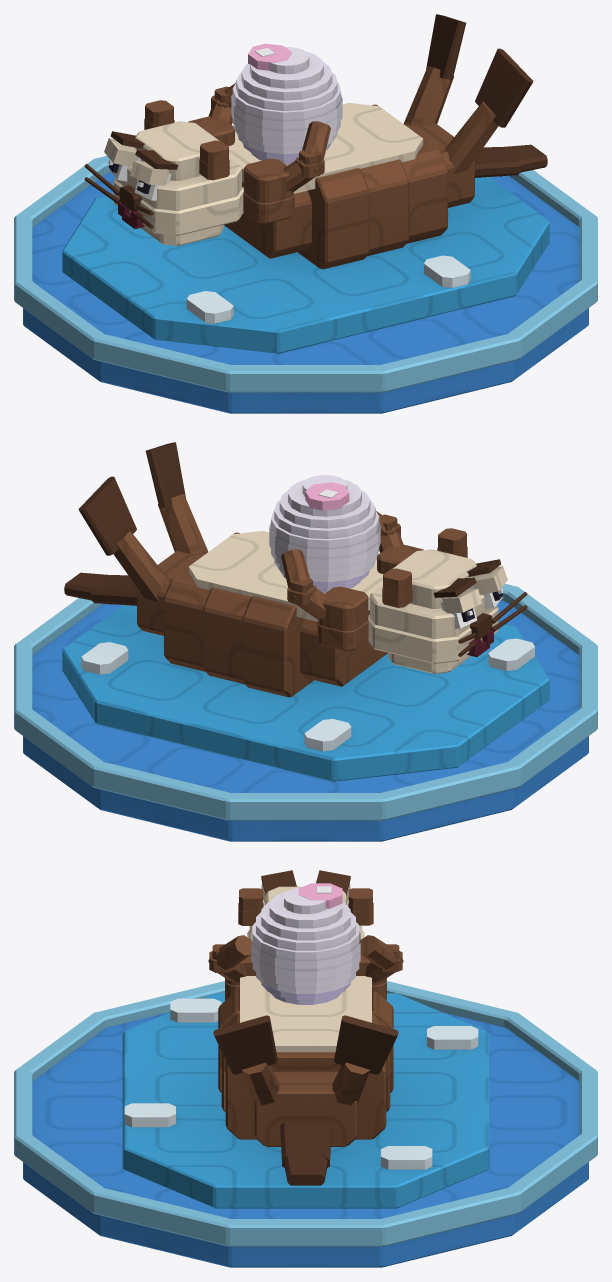
File: PearlOtter.fbx
3 renders of one model, top to bottom at view 1: azimuth 30°, elevation 25°; view 2: azimuth 150°, elevation 25°; view 3: azimuth 270°, elevation 25°, orthographic.
Parts seen in each view (by area): view 1: Art_PearlOtter_Body, Art_PearlOtter_Stand, Art_PearlOtter_Head, Art_PearlOtter_Pearl, Art_PearlOtter_ArmL, Art_PearlOtter_ArmR; view 2: Art_PearlOtter_Body, Art_PearlOtter_Stand, Art_PearlOtter_Head, Art_PearlOtter_Pearl, Art_PearlOtter_ArmR, Art_PearlOtter_ArmL; view 3: Art_PearlOtter_Body, Art_PearlOtter_Stand, Art_PearlOtter_Pearl, Art_PearlOtter_Head, Art_PearlOtter_ArmL, Art_PearlOtter_ArmR.
Boxes of the visible parts, x1,y1,x2,y2 form: Art_PearlOtter_Body: [62, 14, 549, 353]; Art_PearlOtter_Stand: [14, 126, 597, 413]; Art_PearlOtter_Head: [84, 100, 243, 245]; Art_PearlOtter_Pearl: [231, 43, 342, 164]; Art_PearlOtter_ArmL: [243, 121, 330, 223]; Art_PearlOtter_ArmR: [188, 83, 235, 146]; Art_PearlOtter_Body: [62, 442, 549, 781]; Art_PearlOtter_Stand: [14, 554, 597, 841]; Art_PearlOtter_Head: [368, 528, 527, 673]; Art_PearlOtter_Pearl: [269, 475, 380, 592]; Art_PearlOtter_ArmR: [281, 549, 368, 651]; Art_PearlOtter_ArmL: [376, 511, 423, 574]; Art_PearlOtter_Body: [122, 976, 489, 1208]; Art_PearlOtter_Stand: [14, 981, 597, 1267]; Art_PearlOtter_Pearl: [251, 883, 360, 1004]; Art_PearlOtter_Head: [238, 870, 373, 939]; Art_PearlOtter_ArmL: [208, 935, 255, 1000]; Art_PearlOtter_ArmR: [356, 935, 403, 1000].
Size of the model in its own units: 3.19 by 1.47 by 3.19.
